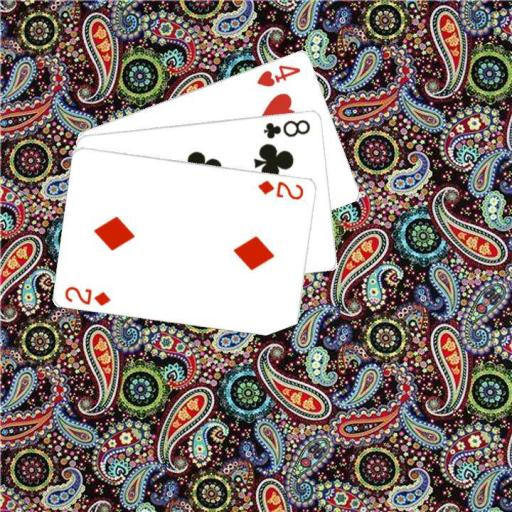2D: (255, 177, 306, 201), (62, 283, 112, 307)
4H: (254, 61, 302, 88)
8C: (260, 116, 312, 140)
